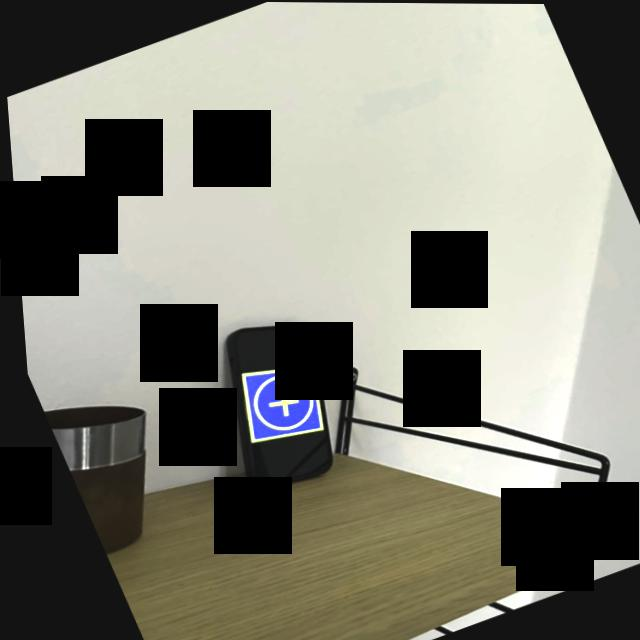Marker: (205, 346, 347, 459)
